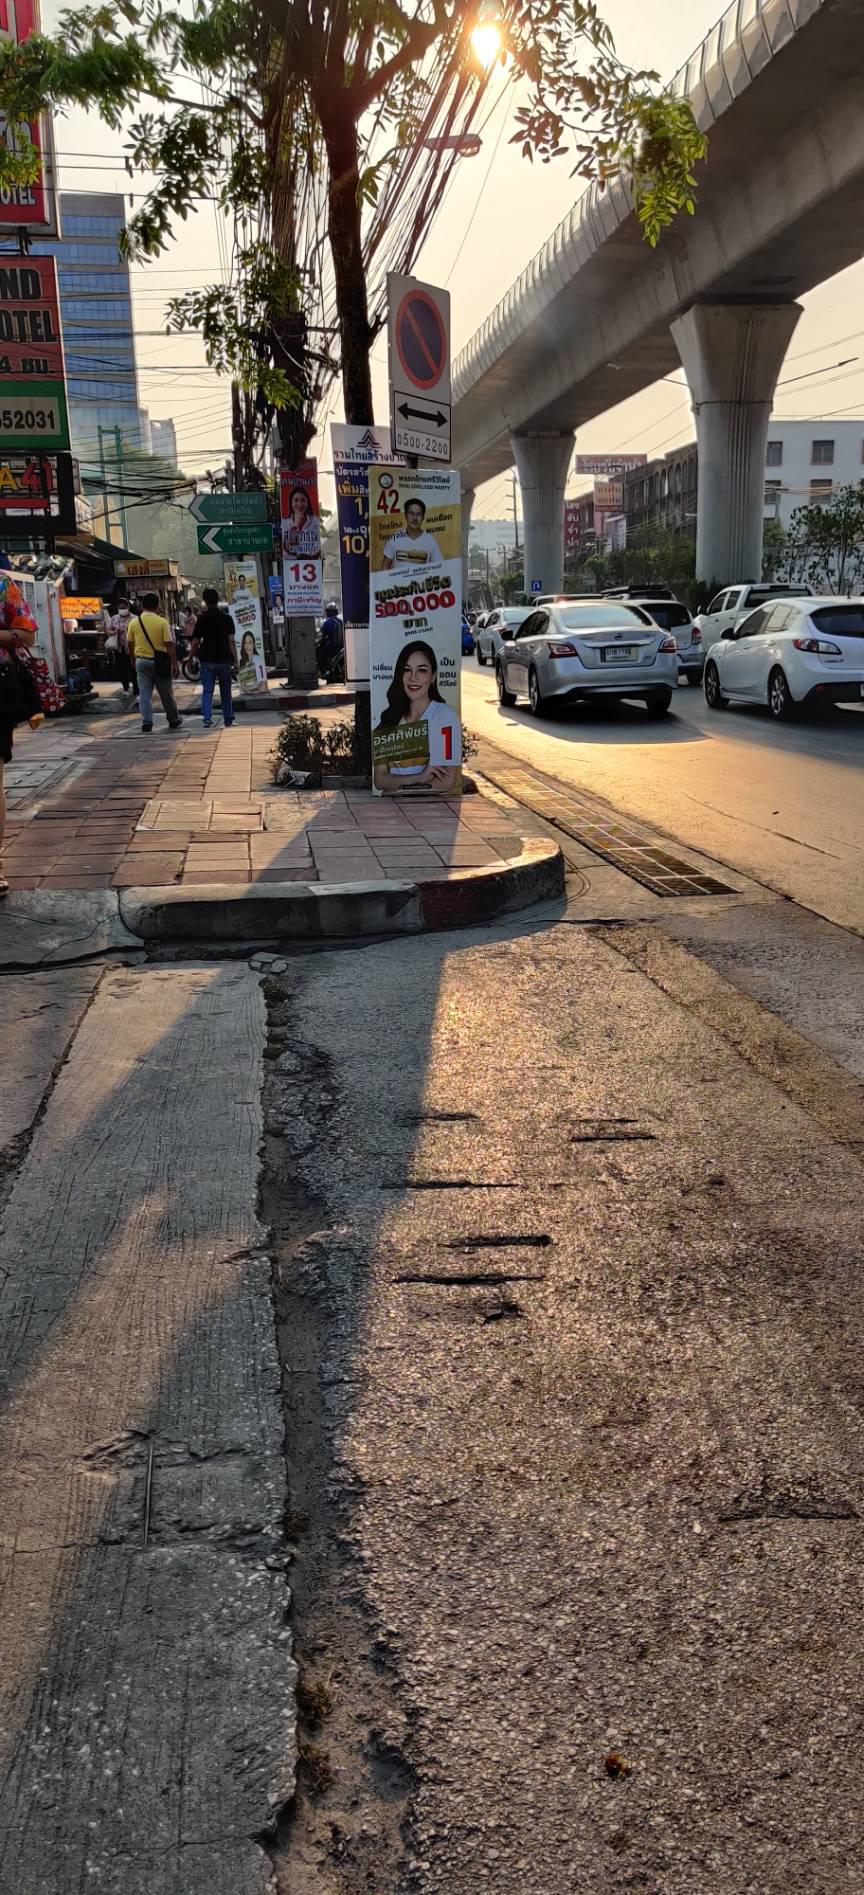Banner: (352, 463, 485, 810)
